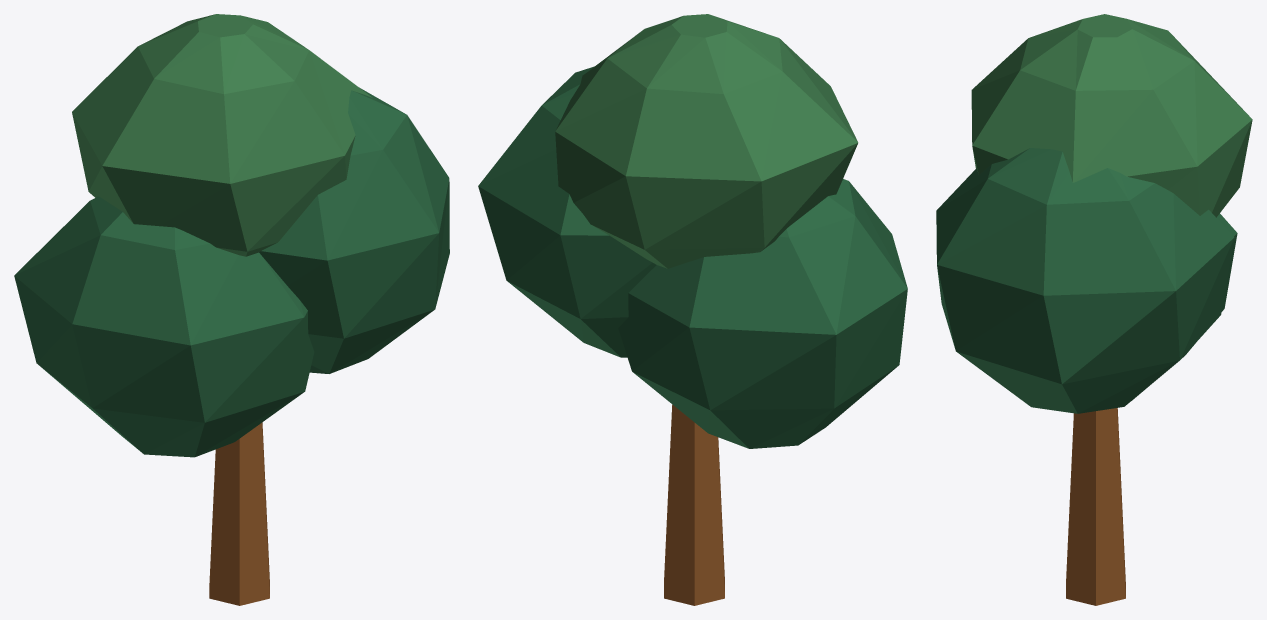
Rendered from tree_broadleaf.fbx.
3 views of the same model, side by side, from view 1: azimuth 30°, elevation 25°; view 2: azimuth 150°, elevation 25°; view 3: azimuth 270°, elevation 25° (orthographic). The views are drawn at different scales.
Visible parts, largest first — view 1: tree_broadleaf; view 2: tree_broadleaf; view 3: tree_broadleaf.
Boxes of the visible parts, x1,y1,x2,y2 form: tree_broadleaf: (14, 14, 449, 605); tree_broadleaf: (478, 14, 907, 605); tree_broadleaf: (936, 14, 1252, 605).
Bounding box in the file's own units: 1.45 × 2.05 × 1.05.
